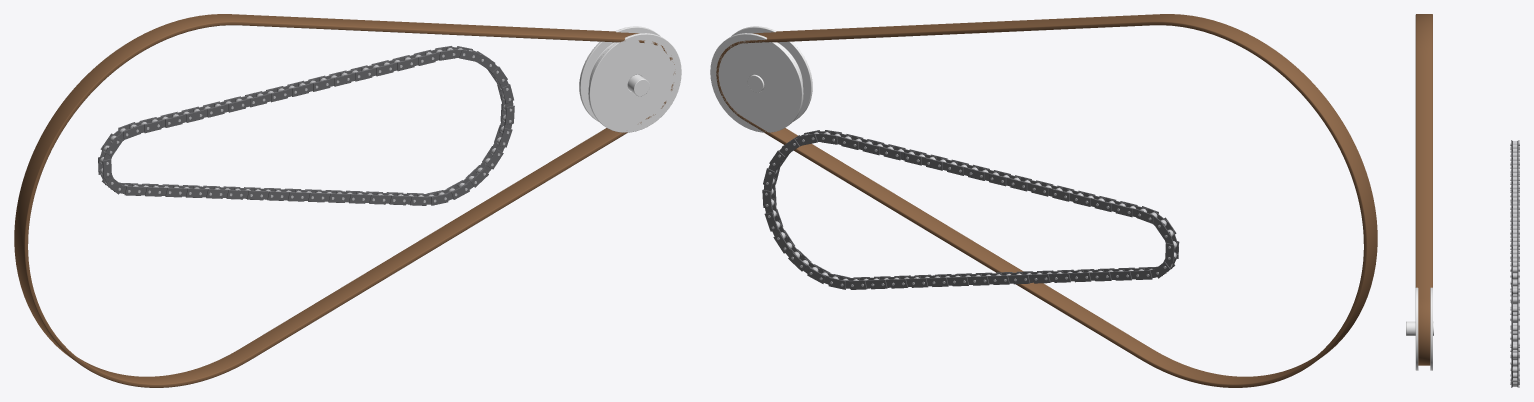
The model's file is bike_pioneer__chain.glb.
The picture shows the model from 3 angles, left to right: view 1: azimuth 30°, elevation 25°; view 2: azimuth 150°, elevation 25°; view 3: azimuth 270°, elevation 25°; orthographic projection. The views are drawn at different scales.
Visible parts, largest first — view 1: transmission__belt, transmission__chain__plates, transmission__engine_pulley, transmission__chain__rollers; view 2: transmission__belt, transmission__chain__plates, transmission__engine_pulley, transmission__chain__rollers; view 3: transmission__belt, transmission__chain__rollers, transmission__chain__plates, transmission__engine_pulley.
Boxes of the visible parts, box(x1,y1,x2,y2) form: transmission__belt: box(14, 14, 675, 387); transmission__chain__plates: box(98, 46, 514, 205); transmission__engine_pulley: box(579, 26, 681, 132); transmission__chain__rollers: box(100, 48, 512, 202); transmission__belt: box(716, 14, 1377, 387); transmission__chain__plates: box(762, 130, 1179, 289); transmission__engine_pulley: box(710, 26, 812, 132); transmission__chain__rollers: box(765, 132, 1176, 286); transmission__belt: box(1415, 14, 1432, 365); transmission__chain__rollers: box(1510, 141, 1519, 386); transmission__chain__plates: box(1511, 140, 1519, 387); transmission__engine_pulley: box(1406, 287, 1433, 370).
Bounding box in the file's own units: 98.46 × 51.14 × 18.68.
